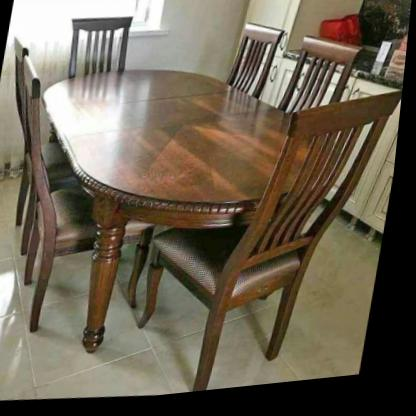Ceramic floor: (0, 191, 215, 402), (214, 223, 387, 396)
Dining Table: (0, 0, 415, 416)
